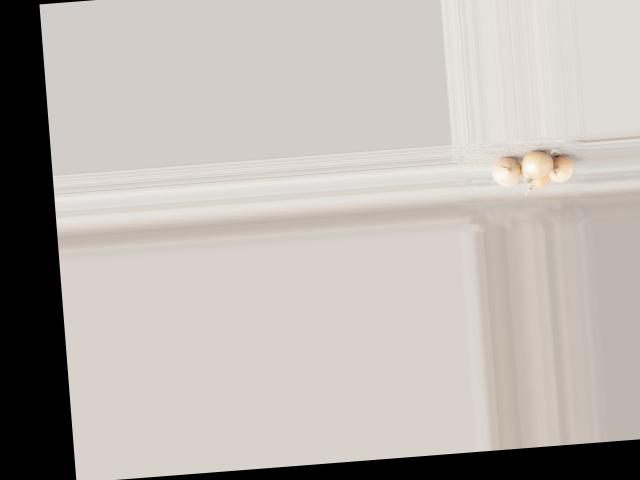onion: (525, 167, 554, 189)
